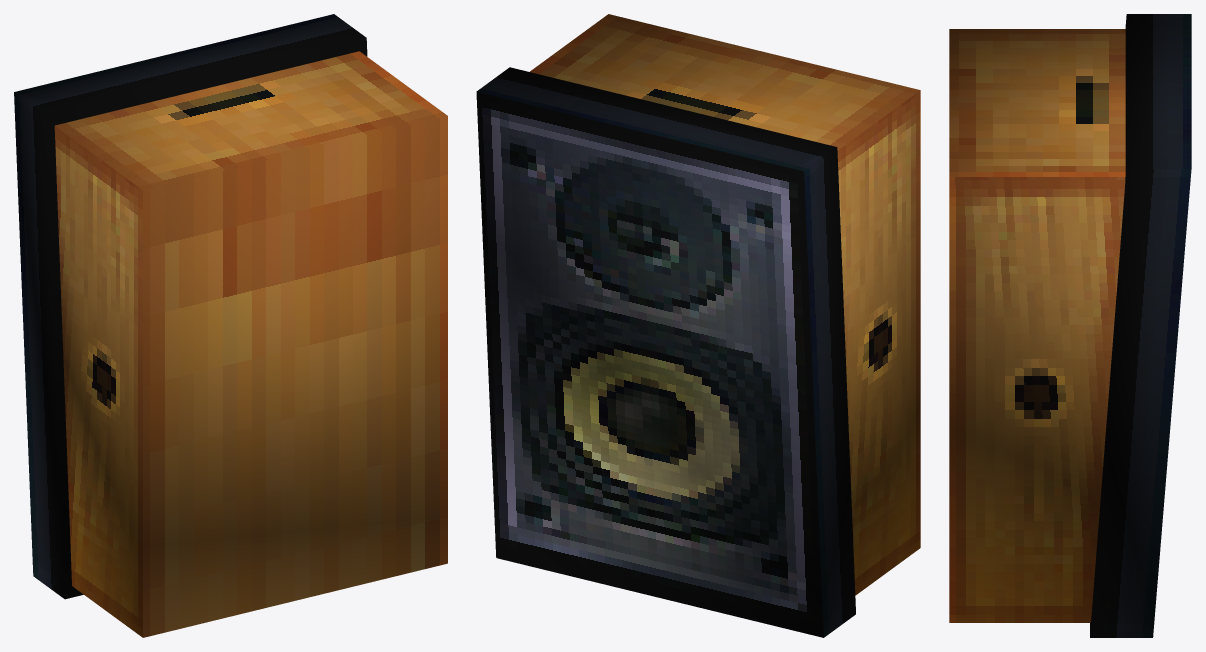
The model's file is a_SCspeaker01.glb.
The picture shows the model from 3 angles, left to right: view 1: azimuth 30°, elevation 25°; view 2: azimuth 150°, elevation 25°; view 3: azimuth 270°, elevation 25°; orthographic projection. The views are drawn at different scales.
Parts seen in each view (by area): view 1: a_SCspeaker01; view 2: a_SCspeaker01; view 3: a_SCspeaker01.
Boxes of the visible parts, bbox=[...] form: a_SCspeaker01: bbox=[14, 14, 447, 637]; a_SCspeaker01: bbox=[476, 14, 920, 637]; a_SCspeaker01: bbox=[949, 14, 1191, 637].
Size of the model in its own units: 0.2775 by 0.3892 by 0.1823.
1 material, 1 textured.
